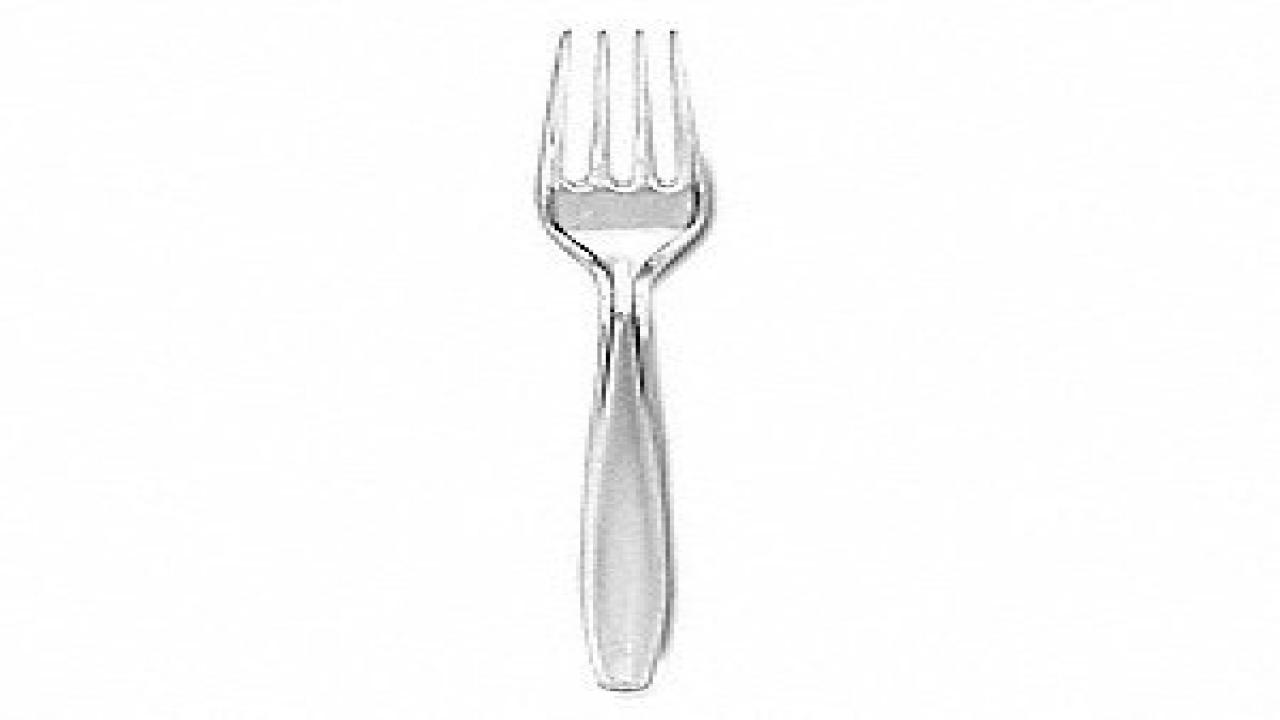fork: (529, 24, 713, 691)
